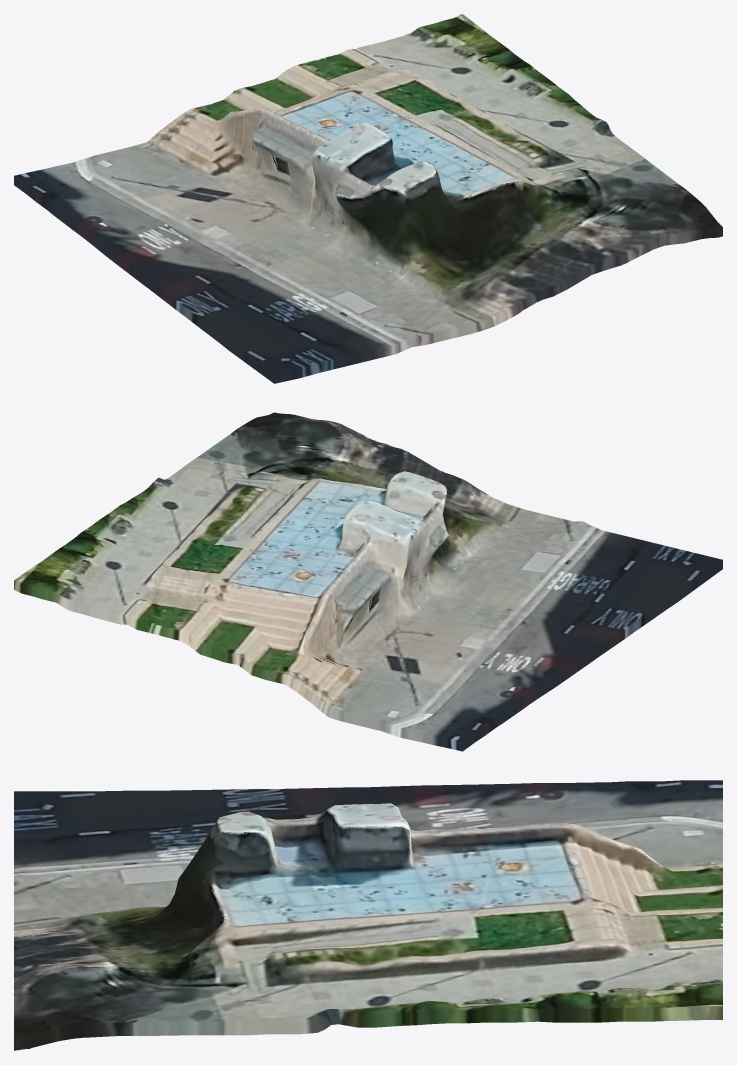
File: z20-167751-405249-h0-yup-uvflip-v3-world.glb
3 renders of one model, top to bottom at view 1: azimuth 30°, elevation 25°; view 2: azimuth 150°, elevation 25°; view 3: azimuth 270°, elevation 25°, orthographic. The views are drawn at different scales.
Bounding box in the file's own units: 30.16 × 6.48 × 30.32.
Materials: 1 (1 with a texture image).
